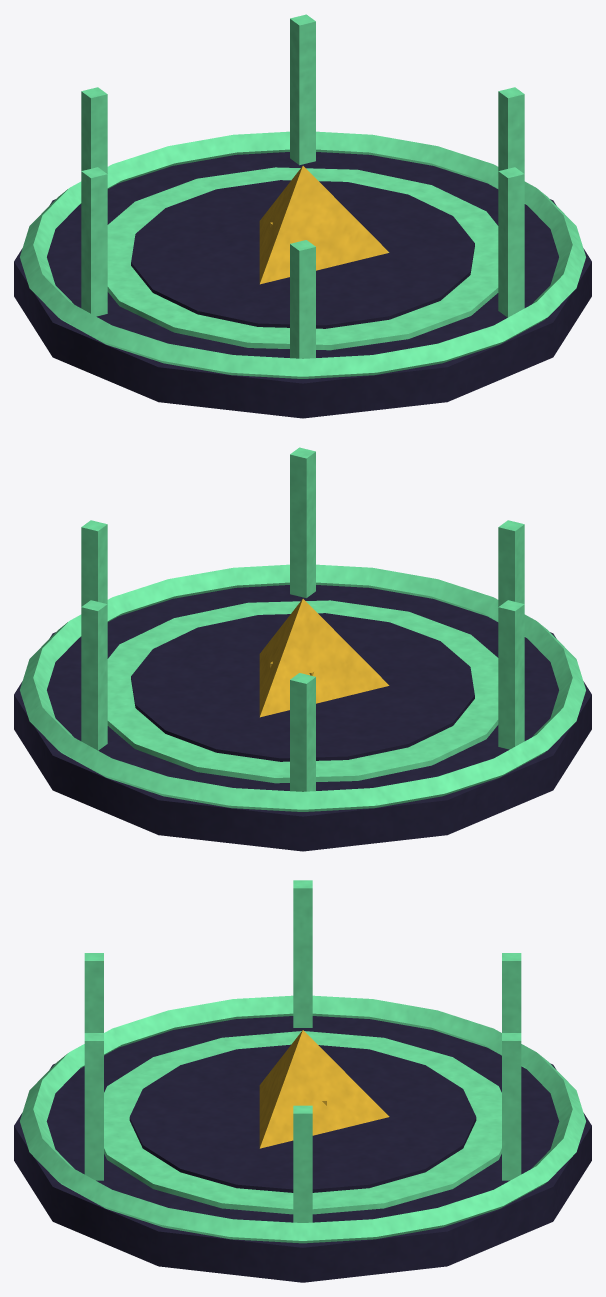
Rendered from return_portal_pad.fbx.
The picture shows the model from 3 angles, top to bottom: view 1: azimuth 30°, elevation 25°; view 2: azimuth 150°, elevation 25°; view 3: azimuth 270°, elevation 25°; orthographic projection.
Visible parts, largest first — view 1: Return_portal_pad; view 2: Return_portal_pad; view 3: Return_portal_pad.
Boxes of the visible parts, bbox=[...] form: Return_portal_pad: bbox=[14, 14, 591, 418]; Return_portal_pad: bbox=[14, 447, 591, 851]; Return_portal_pad: bbox=[14, 880, 591, 1282].
Bounding box in the file's own units: 6 × 2 × 6.
1 material, 1 textured.
